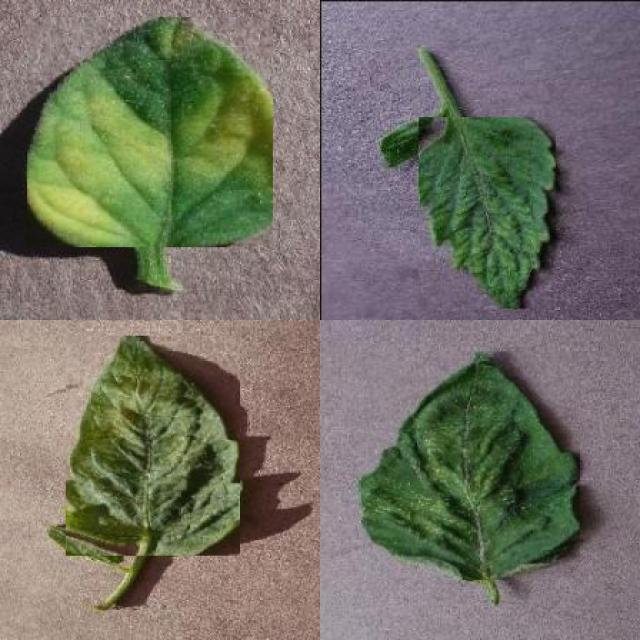Leaf Mold: (27, 17, 273, 247)
Mosaic Virus: (418, 117, 556, 309)
Spider Mites: (361, 352, 580, 581), (66, 336, 240, 556)
